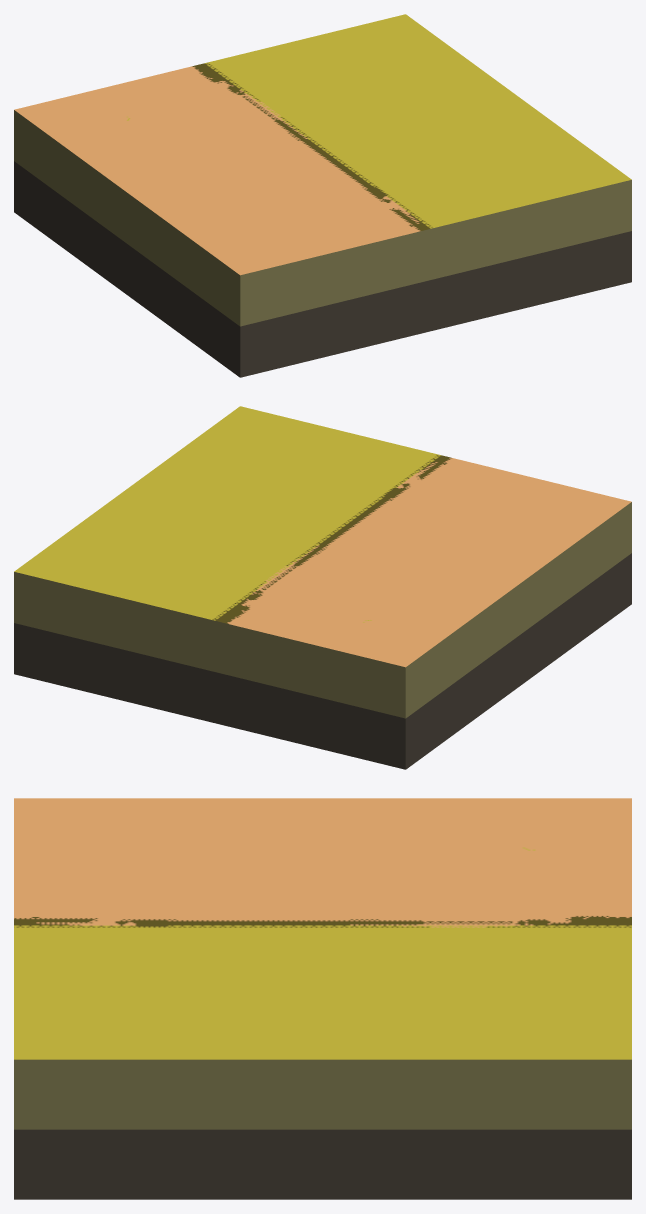
The model's file is tile1_1 sand top.fbx.
3 views of the same model, one above another, from view 1: azimuth 30°, elevation 25°; view 2: azimuth 150°, elevation 25°; view 3: azimuth 270°, elevation 25° (orthographic). The views are drawn at different scales.
Visible parts, largest first — view 1: Cube.001; view 2: Cube.001; view 3: Cube.001.
Part boxes in pixels (x1,y1,x2,y2): Cube.001: [14, 14, 631, 377]; Cube.001: [14, 406, 631, 769]; Cube.001: [14, 798, 631, 1199].
Bounding box in the file's own units: 200 × 50 × 200.
Materials: 1 (1 with a texture image).
